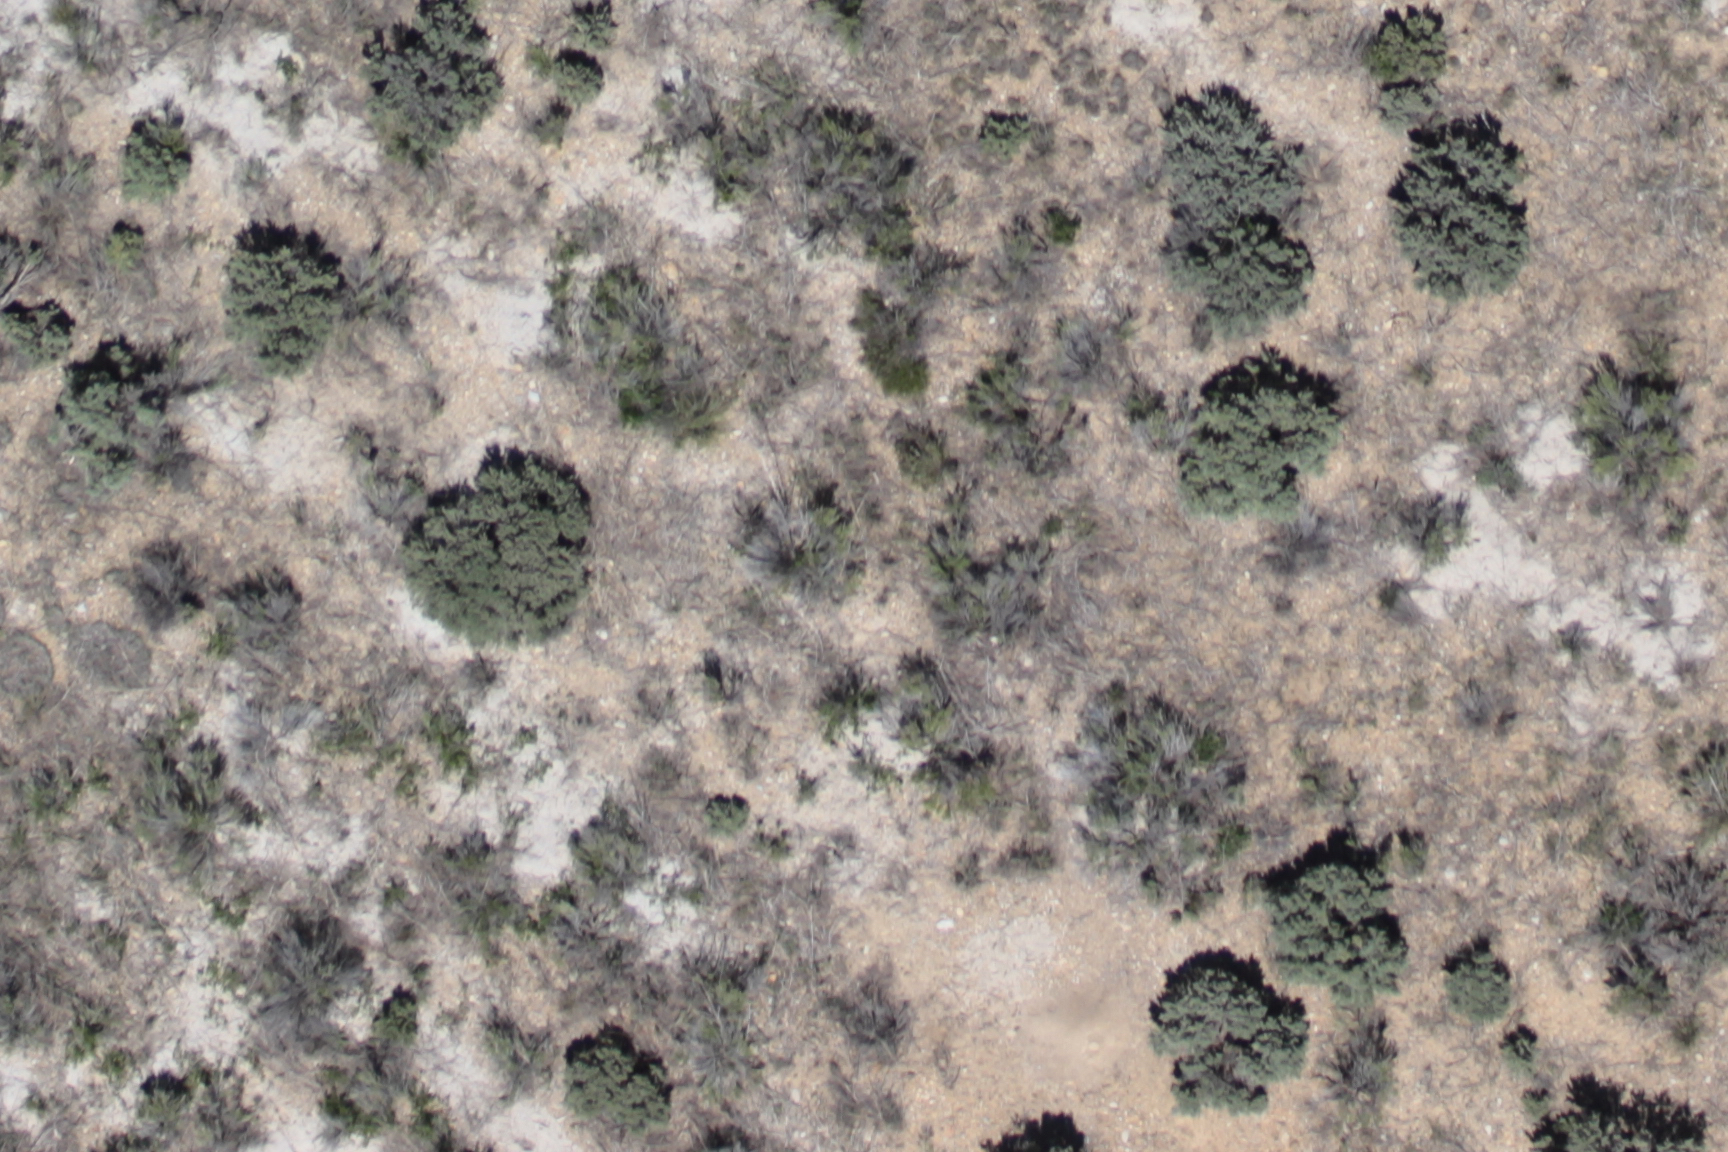burrow: (1002, 950, 1149, 1085)
